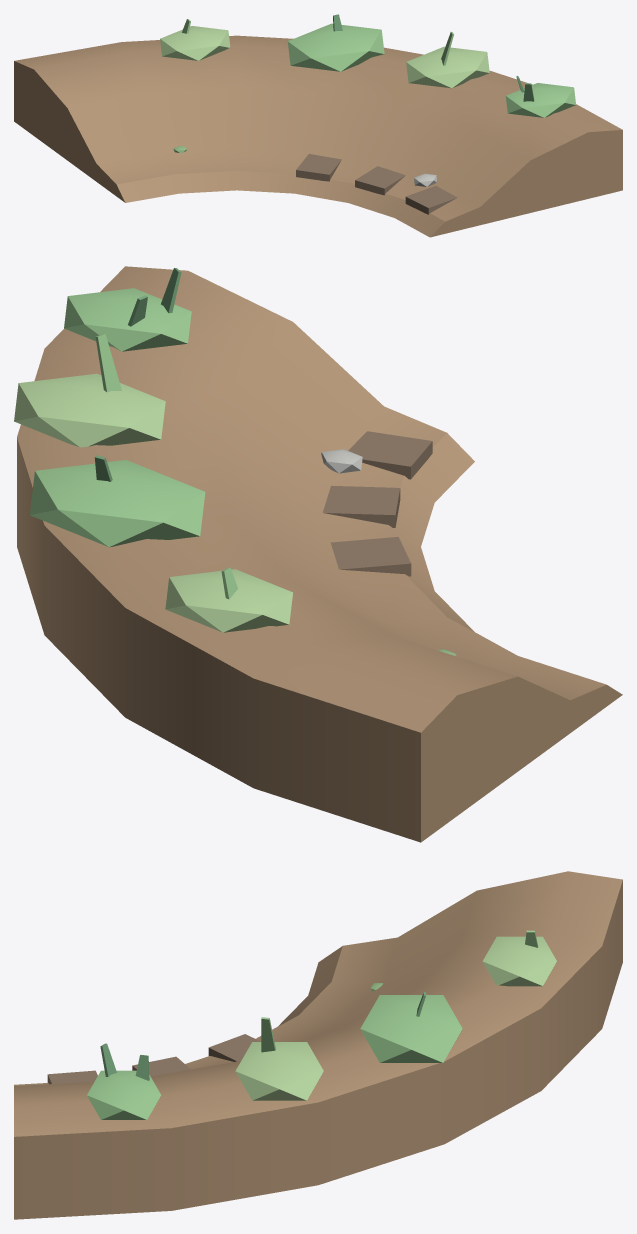
The model's file is hearthvale_bank_curve.glb.
3 renders of one model, top to bottom at view 1: azimuth 30°, elevation 25°; view 2: azimuth 150°, elevation 25°; view 3: azimuth 270°, elevation 25°, orthographic. The views are drawn at different scales.
Parts seen in each view (by area): view 1: hearthvale_bank_curve; view 2: hearthvale_bank_curve; view 3: hearthvale_bank_curve.
Boxes of the visible parts, left/top/right/bottom form: hearthvale_bank_curve: left=14, top=14, right=622, bottom=237; hearthvale_bank_curve: left=14, top=266, right=622, bottom=842; hearthvale_bank_curve: left=14, top=871, right=622, bottom=1219.
Size of the model in its own units: 2 by 0.5413 by 2.
